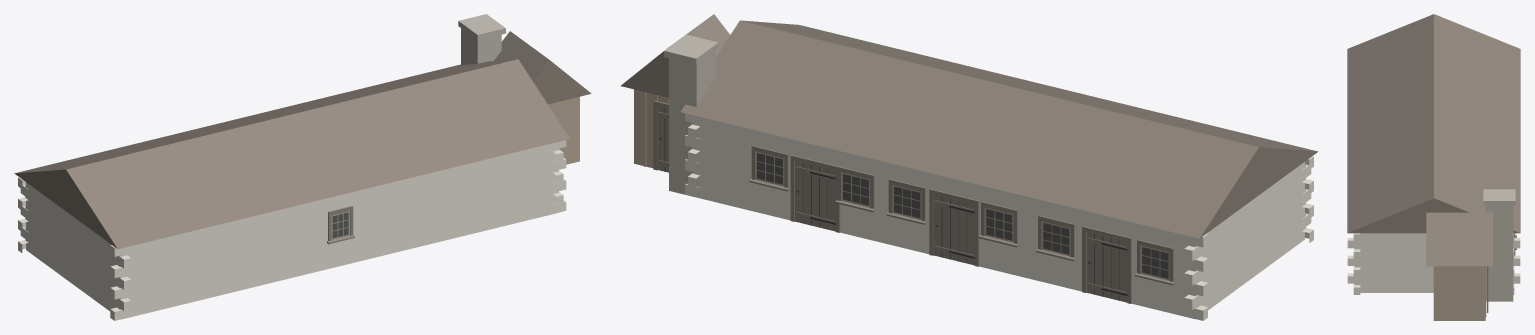
File: lees_place_cabin_1812__lees_place_1812.glb
The picture shows the model from 3 angles, left to right: view 1: azimuth 30°, elevation 25°; view 2: azimuth 150°, elevation 25°; view 3: azimuth 270°, elevation 25°; orthographic projection. The views are drawn at different scales.
Visible parts, largest first — view 1: lees_place_cabin_1812__lees_place_1812; view 2: lees_place_cabin_1812__lees_place_1812; view 3: lees_place_cabin_1812__lees_place_1812.
Boxes of the visible parts, left/top/right/bottom form: lees_place_cabin_1812__lees_place_1812: left=14, top=14, right=591, bottom=320; lees_place_cabin_1812__lees_place_1812: left=621, top=14, right=1318, bottom=320; lees_place_cabin_1812__lees_place_1812: left=1347, top=14, right=1520, bottom=320.
Bounding box in the file's own units: 17.4 × 3.9 × 6.
